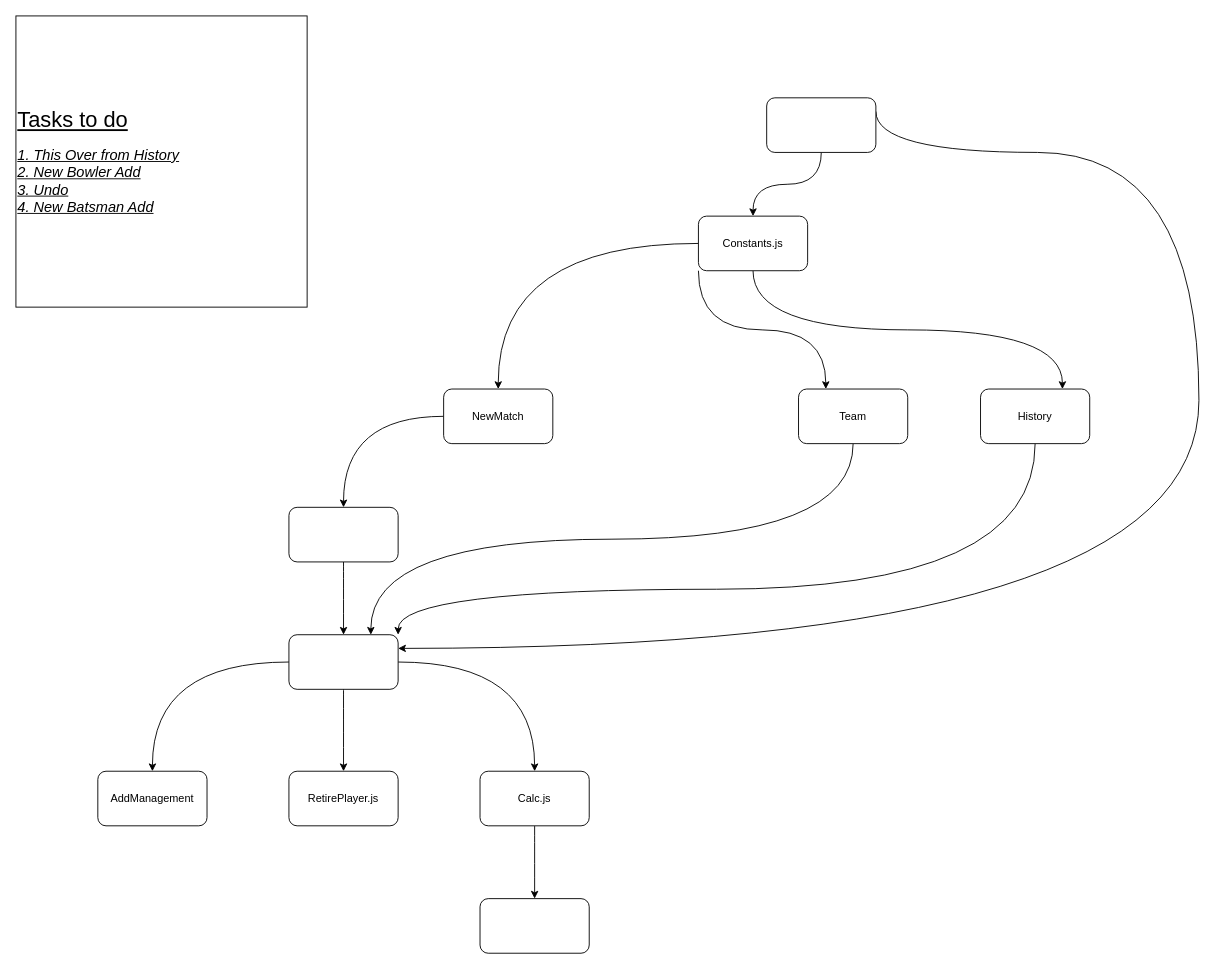
Image size: 1215x969. Some labels were removed from this diagram. Each missing label, with the centre of its shape:
CheckBoxManager: the point at 534,925
main.js: the point at 821,124
PlayerInfo: the point at 343,534
ScoreBoard: the point at 343,661
